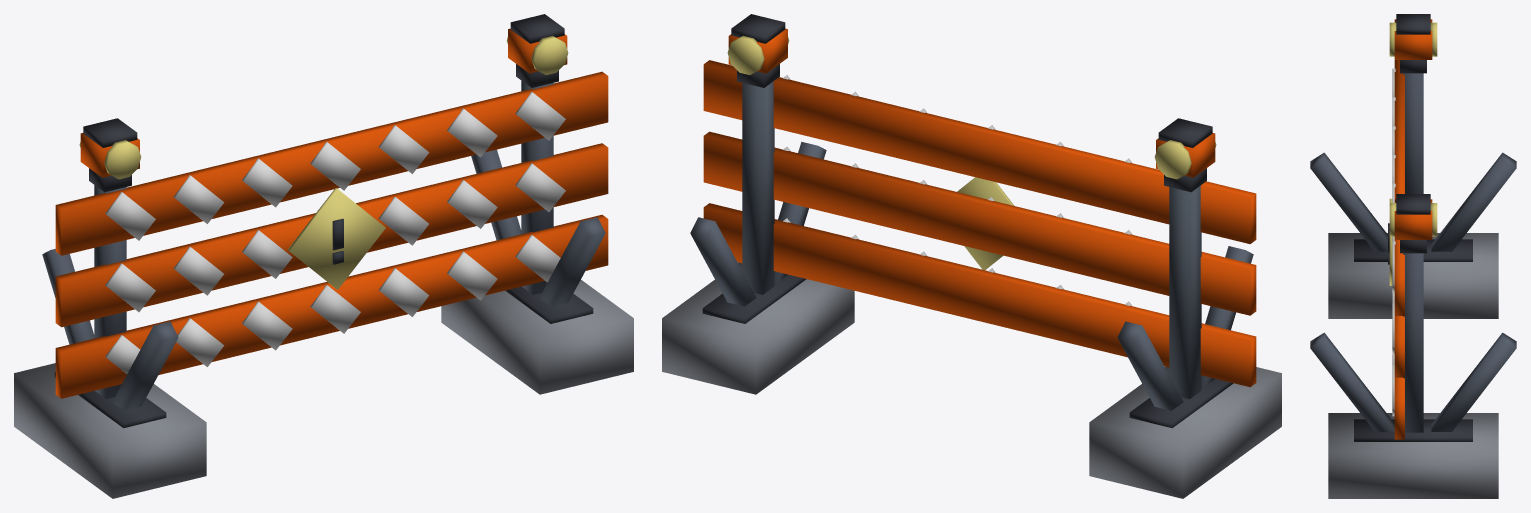
File: road_barrier.glb
The picture shows the model from 3 angles, left to right: view 1: azimuth 30°, elevation 25°; view 2: azimuth 150°, elevation 25°; view 3: azimuth 270°, elevation 25°; orthographic projection. The views are drawn at different scales.
Parts seen in each view (by area): view 1: road_barrier; view 2: road_barrier; view 3: road_barrier.
Boxes of the visible parts, <box> form: road_barrier: <box>14,14,633,498</box>; road_barrier: <box>662,14,1281,498</box>; road_barrier: <box>1310,14,1516,498</box>.
Size of the model in its own units: 3.2 by 1.8 by 1.21.
